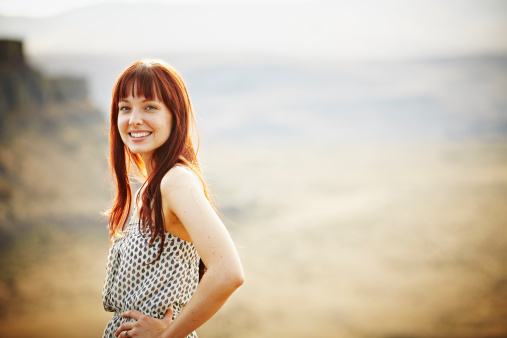em pe: (66, 39, 241, 338)
